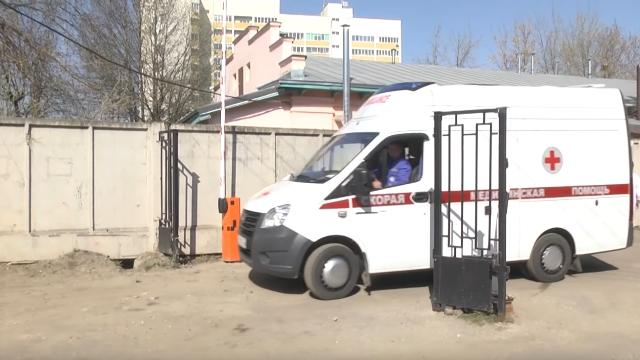ambulance: (237, 82, 633, 300)
